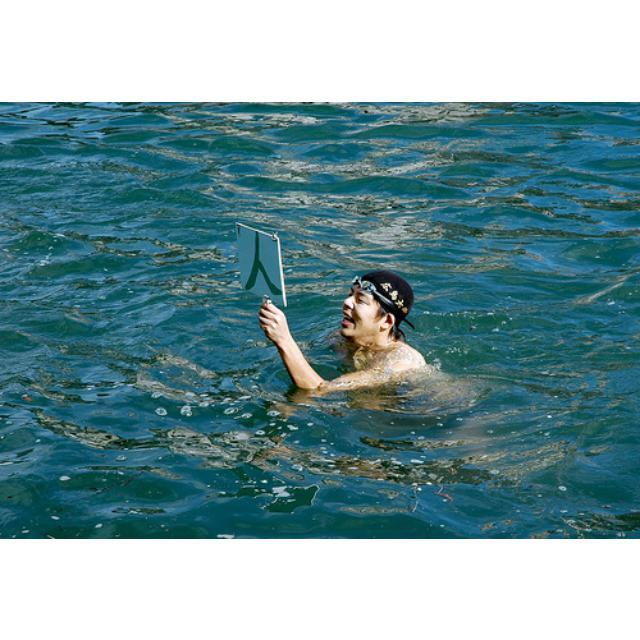human: (261, 268, 432, 399)
